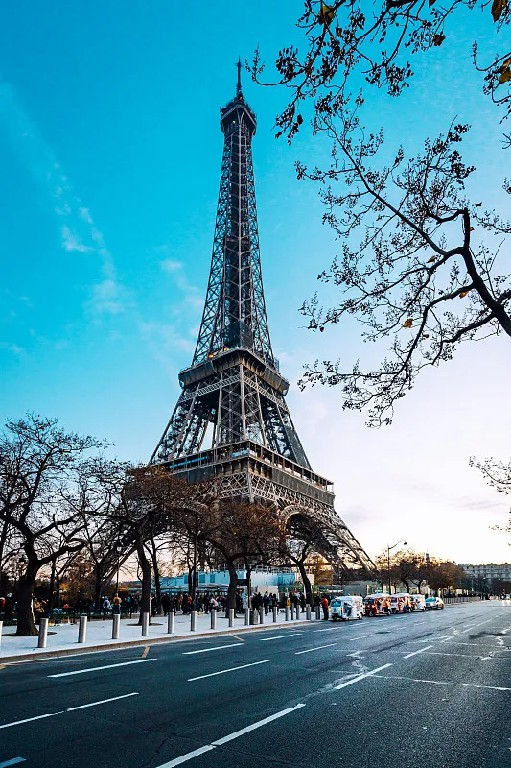Eiffel: (55, 55, 377, 616)
